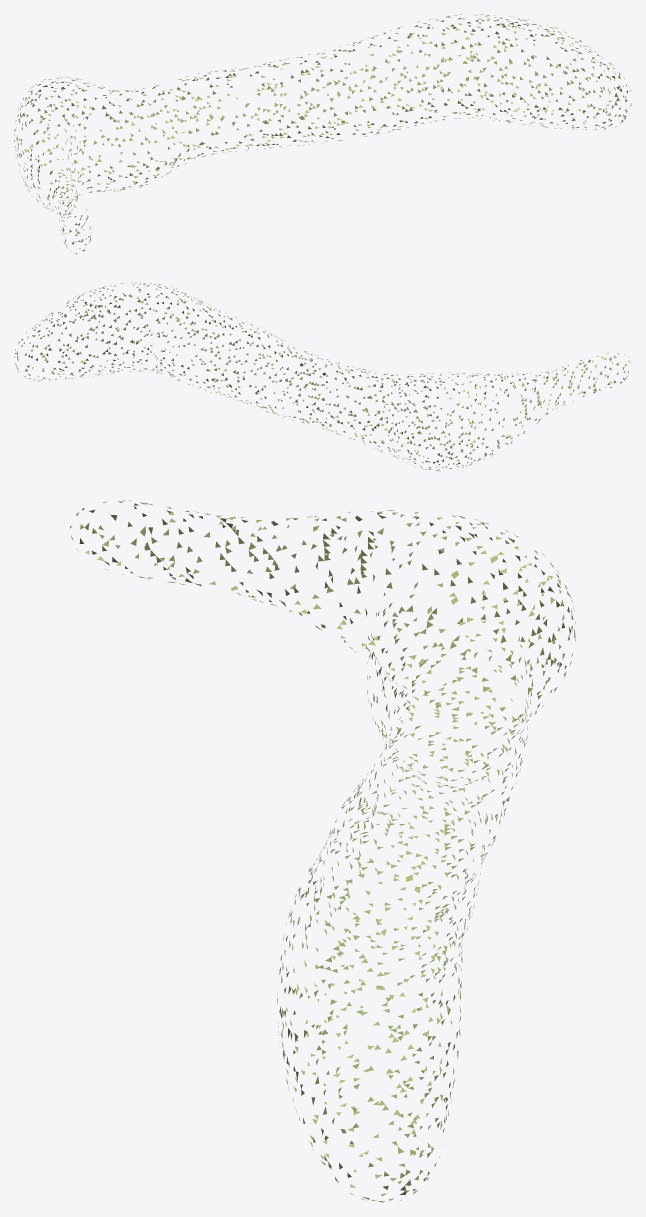
Rendered from morph_011.glb.
3 renders of one model, top to bottom at view 1: azimuth 30°, elevation 25°; view 2: azimuth 150°, elevation 25°; view 3: azimuth 270°, elevation 25°, orthographic. The views are drawn at different scales.
Bounding box in the file's own units: 123 × 27.03 × 49.97.
